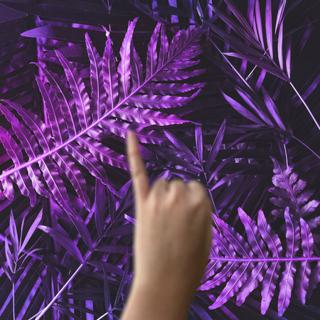FINE: (117, 127, 219, 294)
